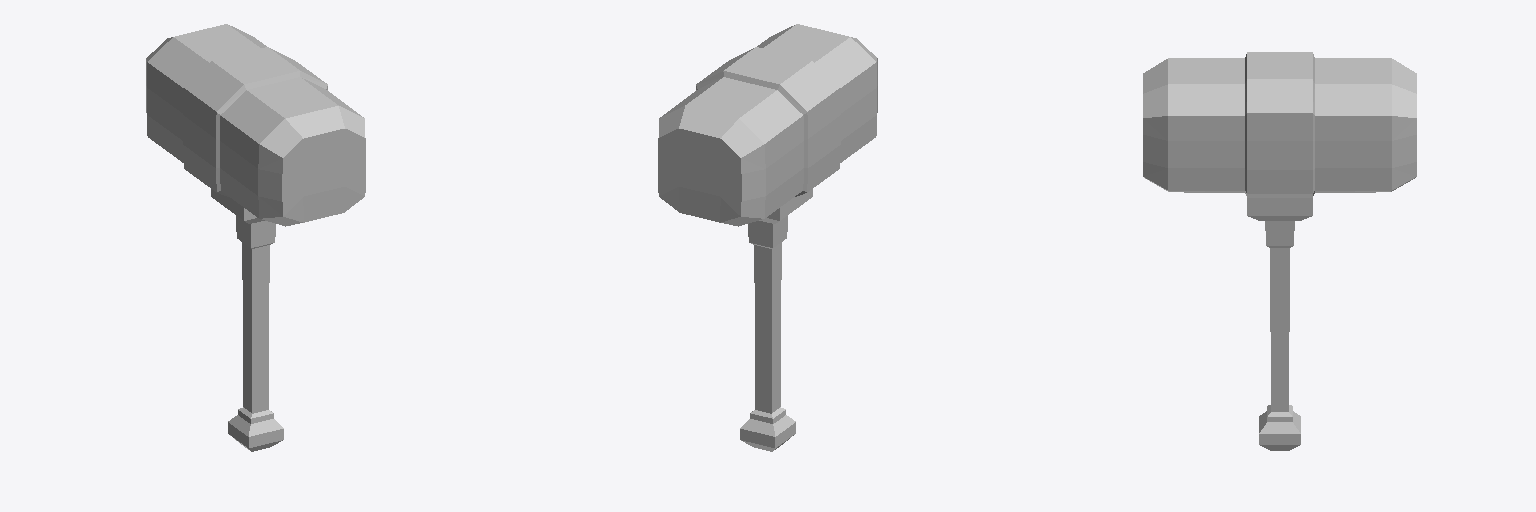
File: hammer.obj
3 views of the same model, side by side, from view 1: azimuth 30°, elevation 25°; view 2: azimuth 150°, elevation 25°; view 3: azimuth 270°, elevation 25° (orthographic).
Visible parts, largest first — view 1: Hammer; view 2: Hammer; view 3: Hammer.
Part boxes in pixels (x1,y1,x2,y2): Hammer: (146,24,365,451); Hammer: (658,24,877,451); Hammer: (1143,52,1416,450).
Size of the model in its own units: 0.9604 by 3.09 by 2.01.